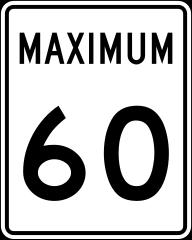Speed Limit -60-: (4, 97, 187, 214)
